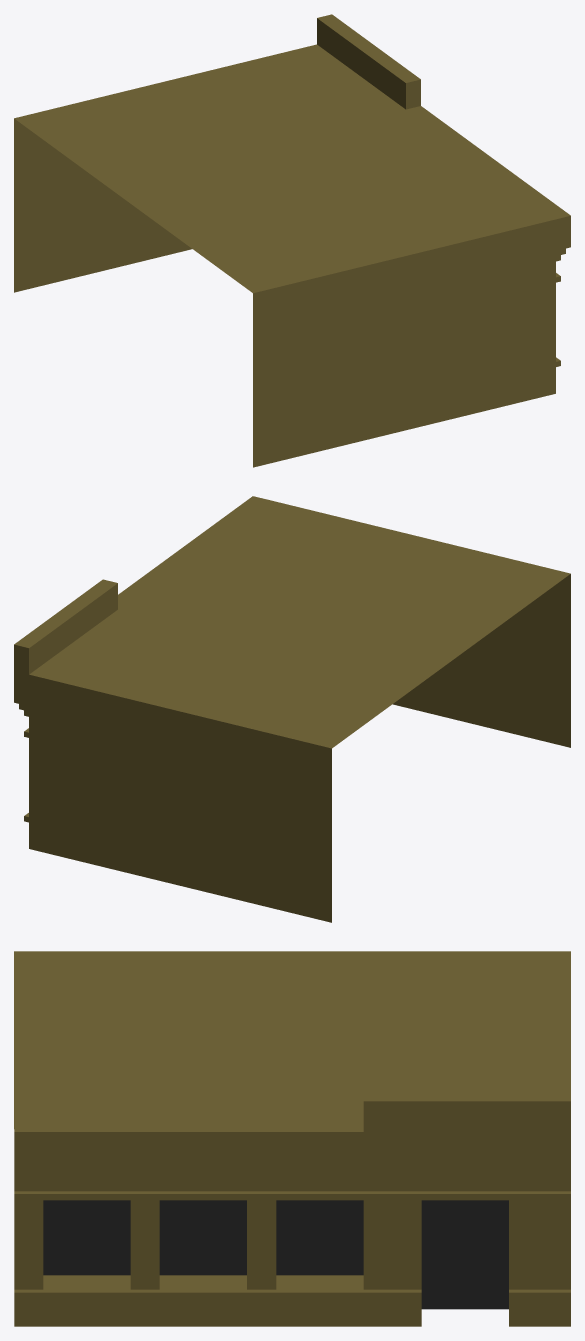
File: Edificio-2.fbx
3 renders of one model, top to bottom at view 1: azimuth 30°, elevation 25°; view 2: azimuth 150°, elevation 25°; view 3: azimuth 270°, elevation 25°, orthographic. The views are drawn at different scales.
Parts seen in each view (by area): view 1: Plane; view 2: Plane; view 3: Plane.
Boxes of the visible parts, box(x1,y1,x2,y2) form: Plane: box(14, 14, 570, 467); Plane: box(14, 496, 570, 922); Plane: box(14, 951, 570, 1326).
Size of the model in its own units: 630 by 380 by 820.
